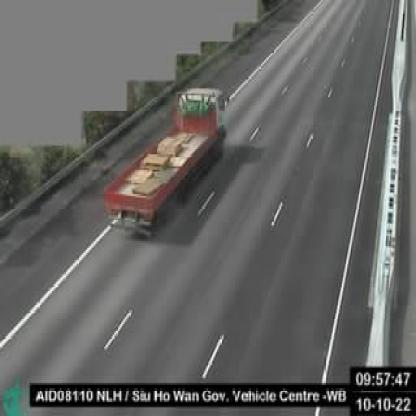Truck: (102, 88, 229, 238)
